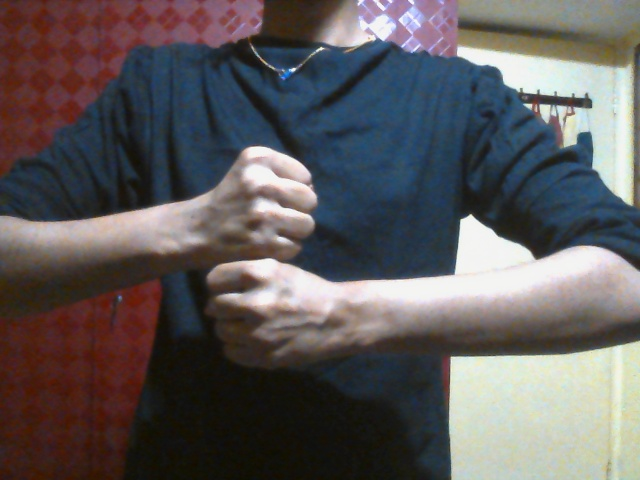G: (201, 144, 347, 372)
